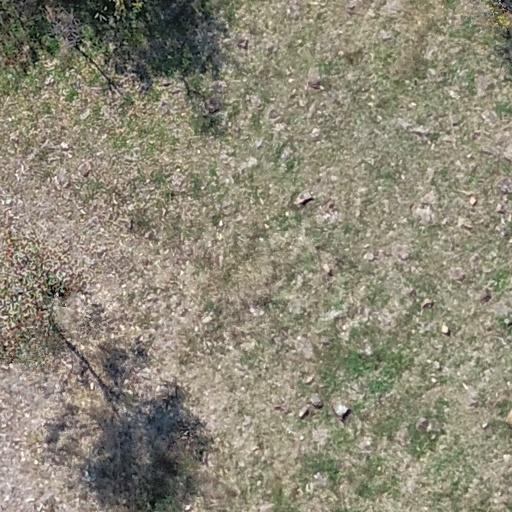stone: (293, 334, 317, 362), (412, 202, 437, 226), (292, 191, 316, 208), (418, 188, 438, 208), (390, 243, 410, 262), (332, 402, 351, 422), (245, 93, 264, 111), (308, 67, 322, 90), (449, 266, 466, 281), (458, 216, 475, 231), (419, 298, 435, 312), (310, 392, 324, 408), (78, 160, 91, 176), (416, 418, 430, 432), (379, 29, 393, 42), (322, 262, 334, 276), (404, 288, 417, 300), (346, 3, 358, 16), (297, 406, 309, 418), (310, 127, 320, 140), (362, 252, 375, 261), (442, 323, 450, 335), (469, 196, 477, 206), (434, 362, 442, 371), (304, 376, 314, 383), (482, 422, 490, 430), (364, 244, 372, 248)
